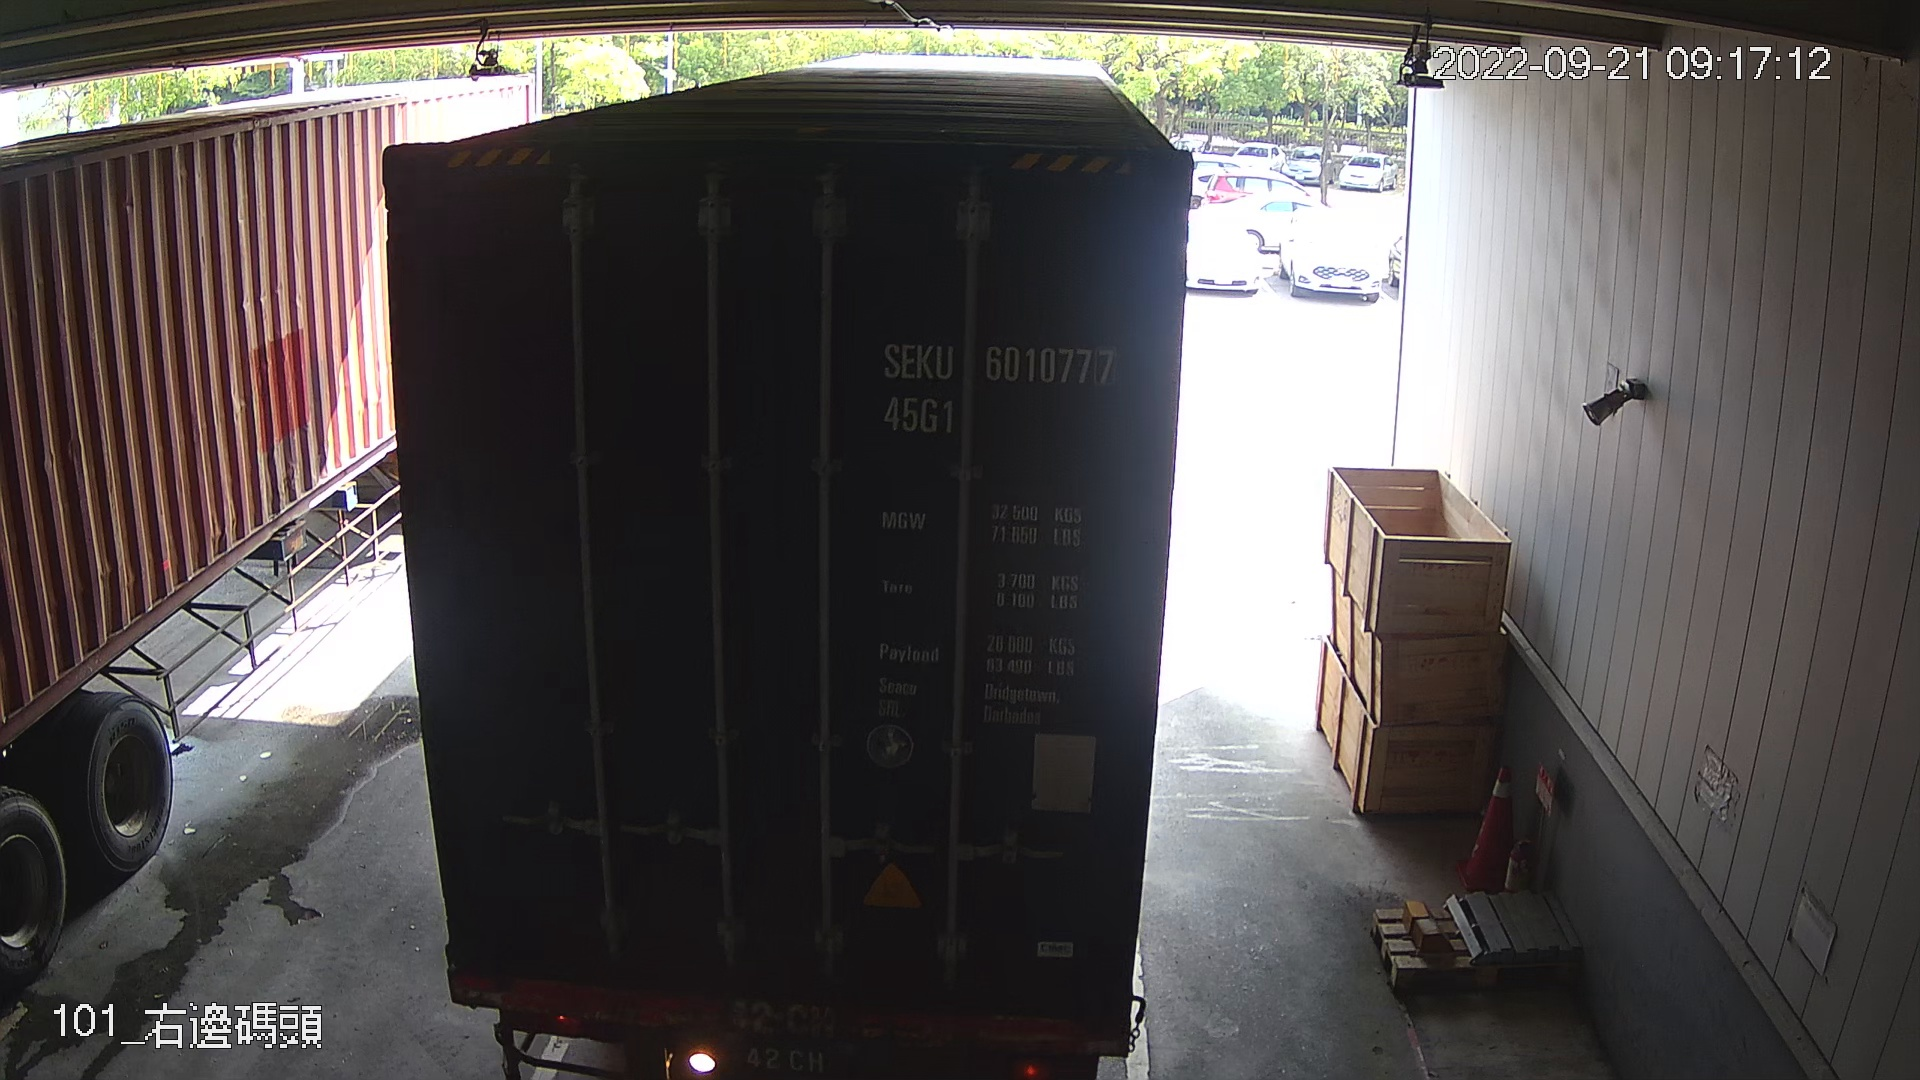container: (866, 327, 1125, 444)
